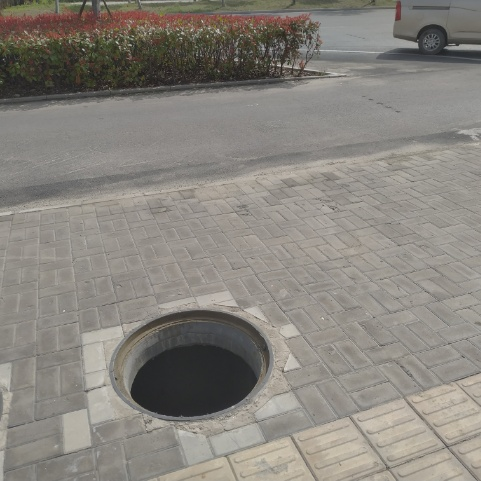lose: (108, 305, 276, 421)
